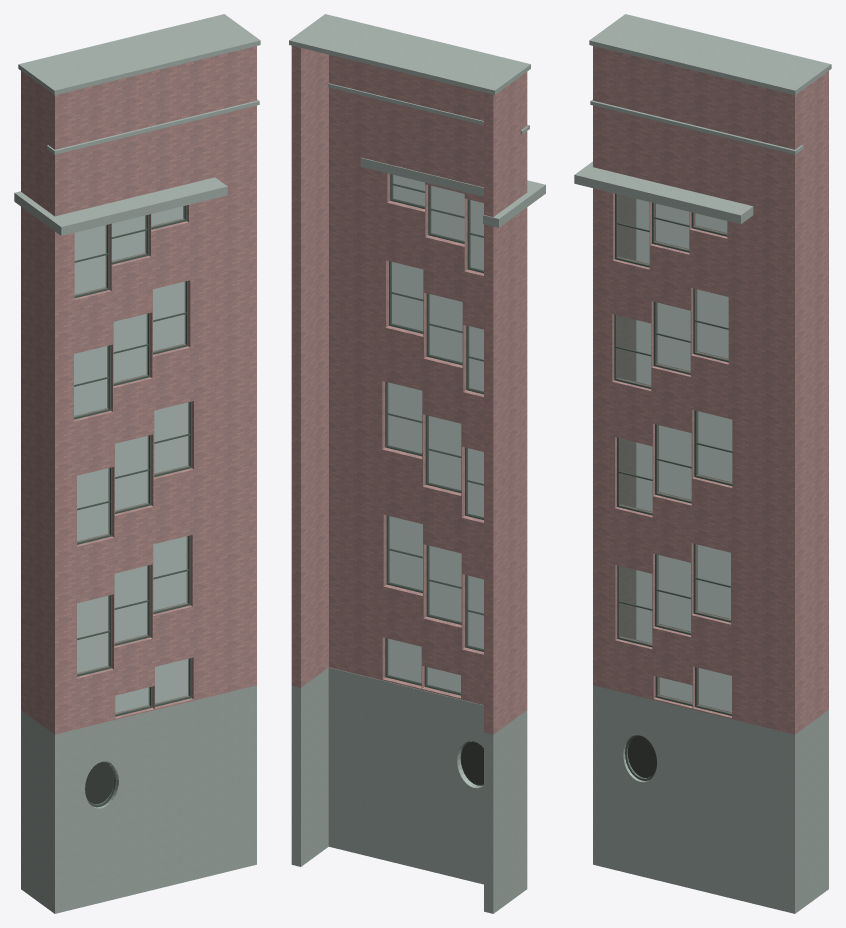
File: lod-source.glb
The picture shows the model from 3 angles, left to right: view 1: azimuth 30°, elevation 25°; view 2: azimuth 150°, elevation 25°; view 3: azimuth 330°, elevation 25°; orthographic projection.
Visible parts, largest first — view 1: 私立妇孺医院旧院临街楼梯间与阶梯钢窗; view 2: 私立妇孺医院旧院临街楼梯间与阶梯钢窗; view 3: 私立妇孺医院旧院临街楼梯间与阶梯钢窗.
Boxes of the visible parts, left/top/right/bottom form: 私立妇孺医院旧院临街楼梯间与阶梯钢窗: left=14, top=14, right=260, bottom=913; 私立妇孺医院旧院临街楼梯间与阶梯钢窗: left=289, top=14, right=545, bottom=913; 私立妇孺医院旧院临街楼梯间与阶梯钢窗: left=574, top=14, right=831, bottom=913.
Bounding box in the file's own units: 5.48 × 20.56 × 2.12.
Materials: 5 (2 with a texture image).
